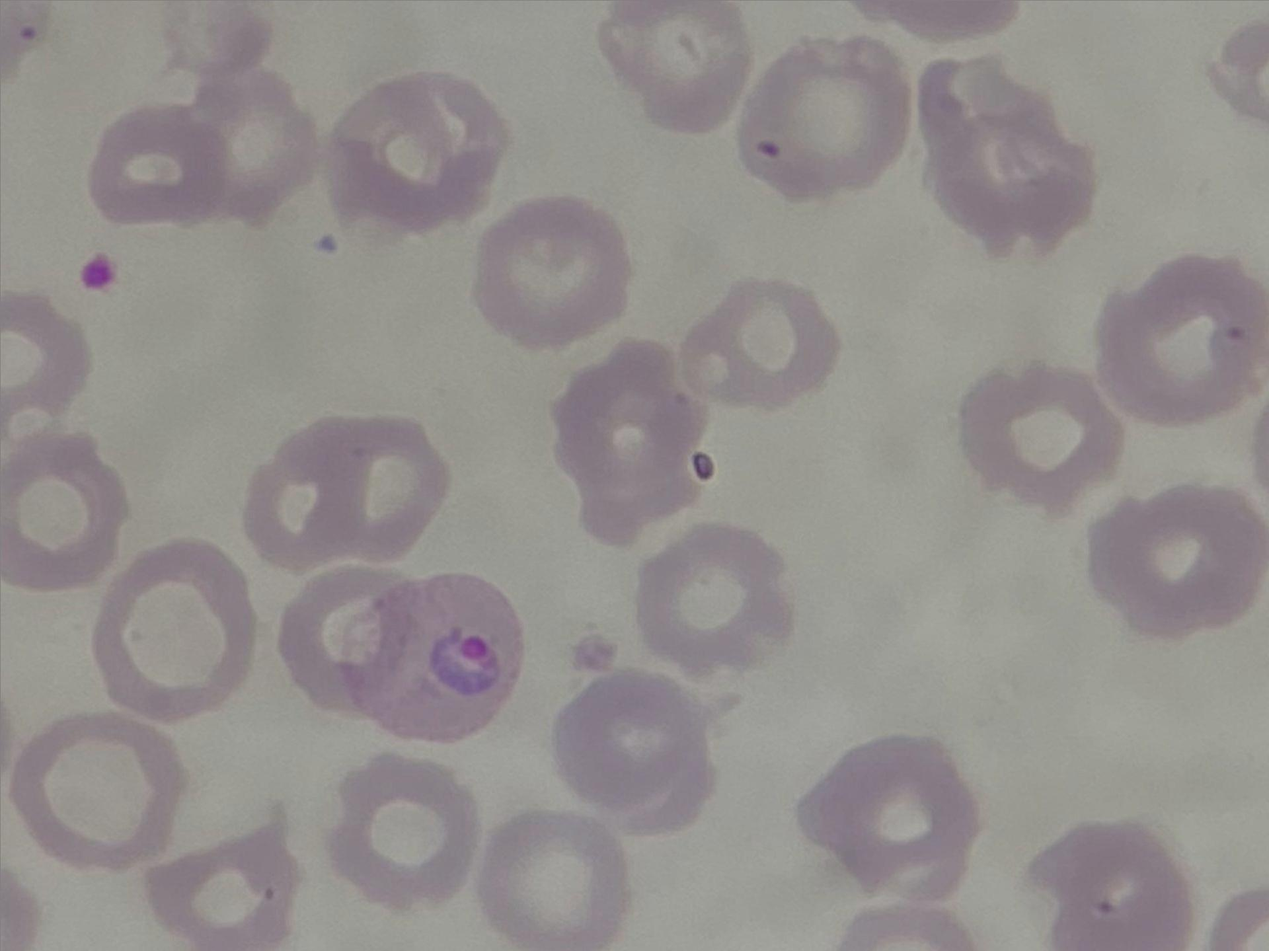Infected: (344, 573, 521, 746)
Uninfected: (923, 54, 1097, 258), (557, 336, 714, 546), (242, 415, 448, 572), (798, 732, 975, 905), (93, 536, 253, 727), (1091, 481, 1269, 646), (1099, 252, 1266, 427), (330, 71, 513, 230), (736, 32, 911, 198), (15, 710, 178, 871), (326, 748, 482, 913), (467, 195, 630, 351), (961, 362, 1125, 508), (632, 525, 787, 677), (555, 679, 717, 824), (194, 67, 322, 233), (478, 811, 629, 951), (679, 283, 837, 411), (145, 825, 305, 951), (278, 562, 413, 706), (4, 428, 123, 590), (604, 0, 746, 135), (93, 109, 225, 223)
